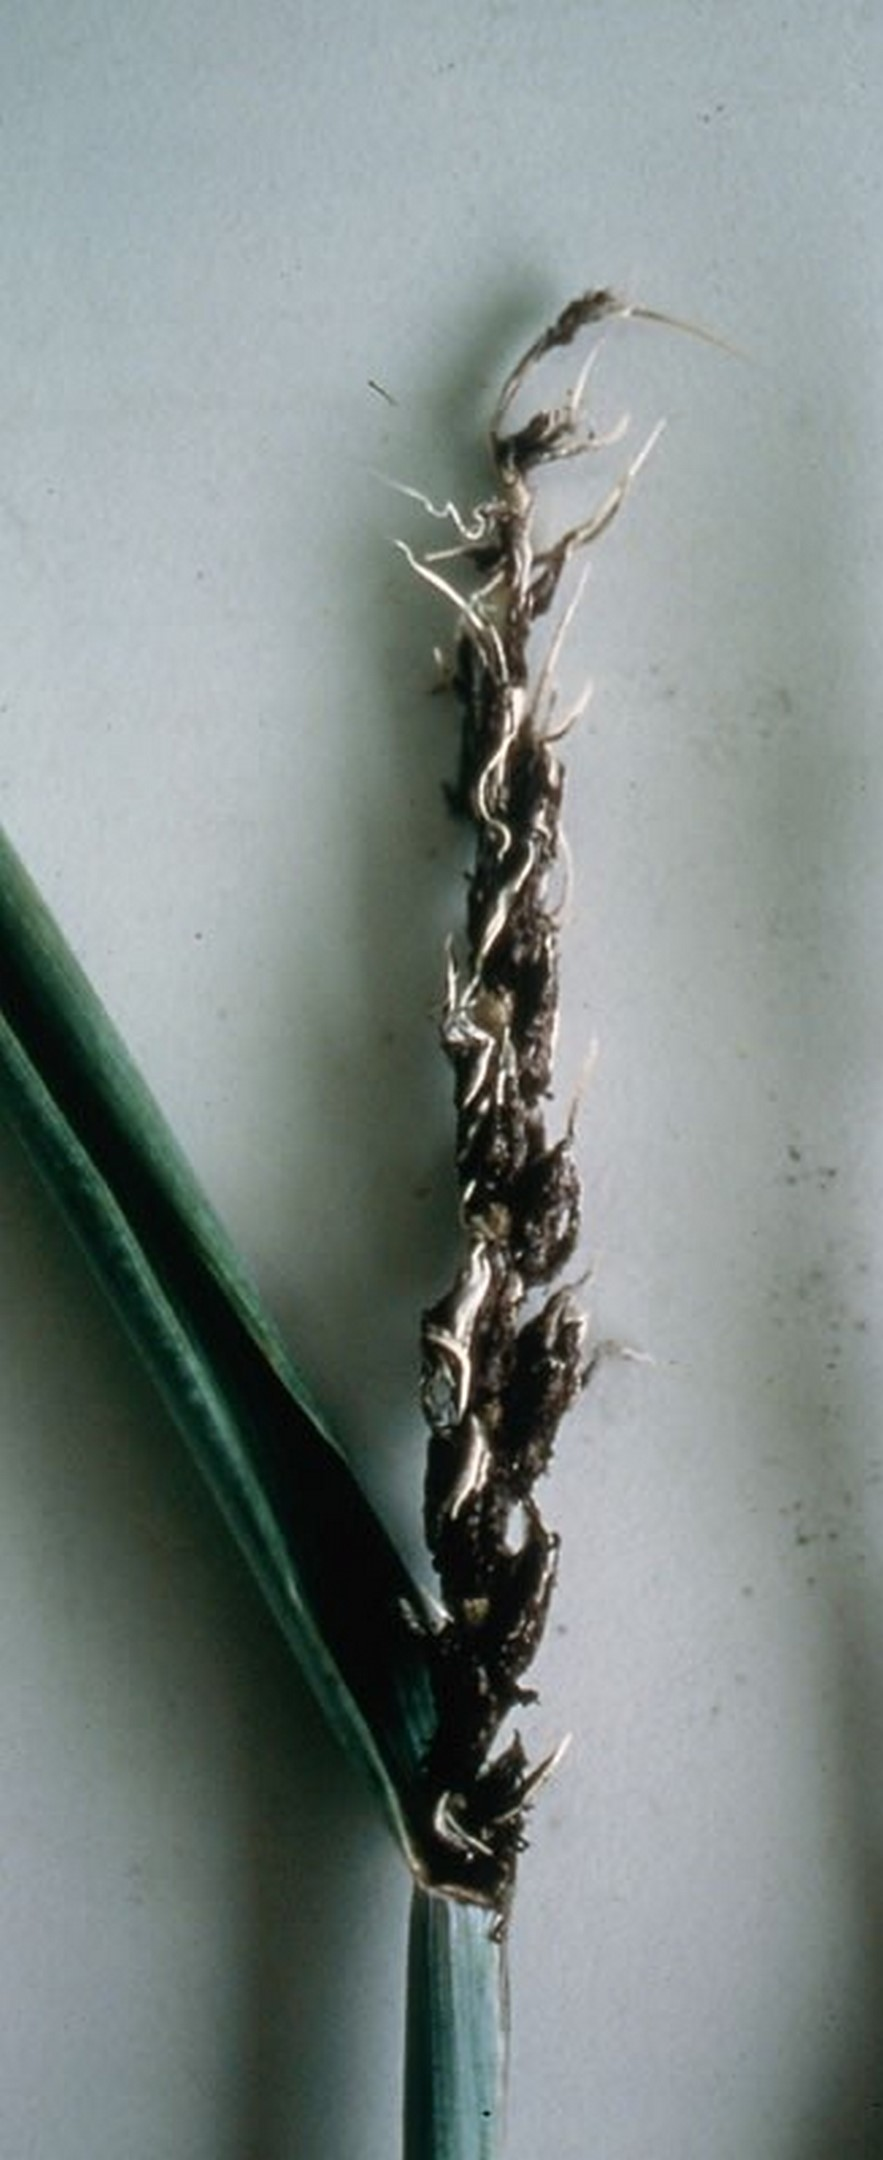Wheat Loose Smut: (317, 304, 705, 1836)
